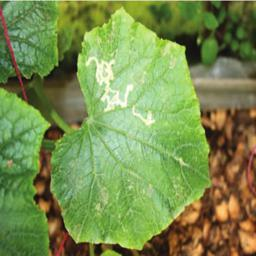liriomyza: (83, 55, 133, 113), (132, 105, 156, 126)
